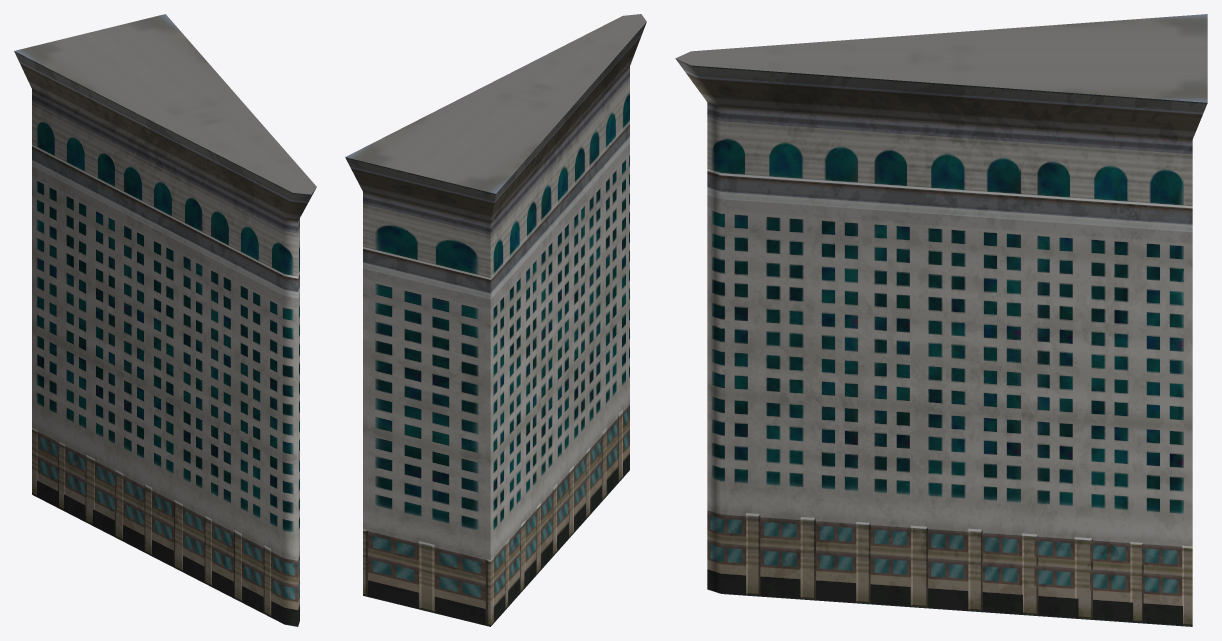
Rendered from NyBuild_02.fbx.
3 renders of one model, left to right at view 1: azimuth 30°, elevation 25°; view 2: azimuth 150°, elevation 25°; view 3: azimuth 270°, elevation 25°, orthographic. The views are drawn at different scales.
Parts seen in each view (by area): view 1: Плоскость; view 2: Плоскость; view 3: Плоскость.
Boxes of the visible parts, left/top/right/bottom form: Плоскость: left=14, top=14, right=316, bottom=626; Плоскость: left=345, top=14, right=646, bottom=626; Плоскость: left=675, top=14, right=1207, bottom=626.
Bounding box in the file's own units: 959 × 2671 × 2428.
1 material, 1 textured.
